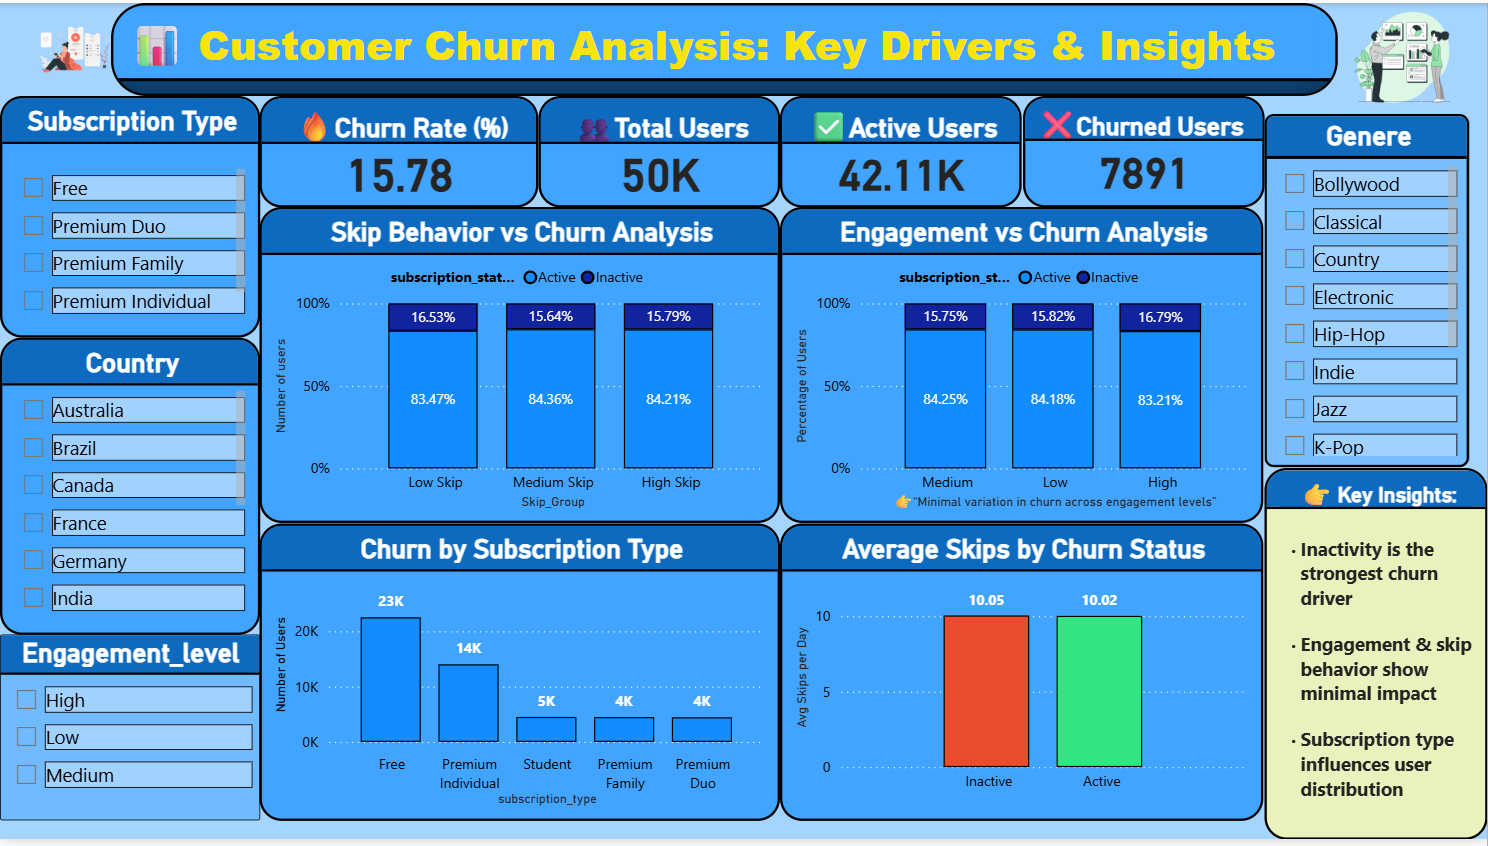

This screenshot's page, from the dashboard's own definition file:
{"tool":"powerbi","page":{"name":"Page 1","canvas":[1280,720],"ordinal":0},"visuals":[{"type":"card","title":"👥Total Users","fields":{"Values":["CountNonNull(music_churn.user_id)"]},"box":[464,80,208,96],"z":0},{"type":"card","title":"✅Active Users","fields":{"Values":["CountNonNull(music_churn.user_id)"]},"box":[672,80,208,96],"z":1000},{"type":"card","title":"❌Churned Users","fields":{"Values":["CountNonNull(music_churn.user_id)"]},"box":[880,80,208,96],"z":2000},{"type":"textbox","title":"📊 Customer Churn Analysis: Key Drivers & Insights","box":[96,0,1056,80],"z":3000},{"type":"card","title":"🔥Churn Rate (%) ","fields":{"Values":["music_churn.Churn Rate"]},"box":[224,80,240,96],"z":4000},{"type":"slicer","title":"Subscription Type","fields":{"Values":["music_churn.subscription_type"]},"box":[0,80,224,208],"z":5000},{"type":"slicer","title":"Country","fields":{"Values":["music_churn.country"]},"box":[0,288,224,256],"z":6000},{"type":"slicer","title":"Engagement_level","fields":{"Values":["music_churn.Engagement_Level"]},"box":[0,544,224,160],"z":7000},{"type":"hundredPercentStackedColumnChart","title":"Engagement vs Churn Analysis","fields":{"Category":["music_churn.Engagement_Level"],"Series":["music_churn.subscription_status"],"Y":["CountNonNull(music_churn.user_id)"]},"box":[672,176,416,272],"z":8000},{"type":"hundredPercentStackedColumnChart","title":"Skip Behavior vs Churn Analysis","fields":{"Series":["music_churn.subscription_status"],"Y":["CountNonNull(music_churn.user_id)"],"Category":["music_churn.Skip_Group"]},"box":[224,176,448,272],"z":9000},{"type":"clusteredColumnChart","title":"Churn by Subscription Type","fields":{"Category":["music_churn.subscription_type"],"Y":["CountNonNull(music_churn.user_id)"]},"box":[224,448,448,256],"z":10000},{"type":"clusteredColumnChart","title":"Average Skips by Churn Status","fields":{"Category":["music_churn.subscription_status"],"Y":["Avg(music_churn.avg_skips_per_day)"]},"box":[672,448,416,256],"z":11000},{"type":"slicer","title":"Genere","fields":{"Values":["music_churn.favorite_genre"]},"box":[1088,96,176,304],"z":12000},{"type":"textbox","title":"👉 Key Insights:","box":[1088,400,192,320],"z":13000},{"type":"image","box":[1152,0,112,96],"z":14000},{"type":"image","box":[0,0,128,80],"z":15000}]}

Visuals, with their boxes in screenshot pixels (x1, y1, x2, y2), scaled from the page's 1280x720 canvas onto the 1488x846 screenshot:
"👥Total Users" card: x1=539, y1=94, x2=781, y2=207
"✅Active Users" card: x1=781, y1=94, x2=1023, y2=207
"❌Churned Users" card: x1=1023, y1=94, x2=1265, y2=207
"📊 Customer Churn Analysis: Key Drivers & Insights" textbox: x1=112, y1=0, x2=1339, y2=94
"🔥Churn Rate (%) " card: x1=260, y1=94, x2=539, y2=207
"Subscription Type" slicer: x1=0, y1=94, x2=260, y2=338
"Country" slicer: x1=0, y1=338, x2=260, y2=639
"Engagement_level" slicer: x1=0, y1=639, x2=260, y2=827
"Engagement vs Churn Analysis" hundredPercentStackedColumnChart: x1=781, y1=207, x2=1265, y2=526
"Skip Behavior vs Churn Analysis" hundredPercentStackedColumnChart: x1=260, y1=207, x2=781, y2=526
"Churn by Subscription Type" clusteredColumnChart: x1=260, y1=526, x2=781, y2=827
"Average Skips by Churn Status" clusteredColumnChart: x1=781, y1=526, x2=1265, y2=827
"Genere" slicer: x1=1265, y1=113, x2=1469, y2=470
"👉 Key Insights:" textbox: x1=1265, y1=470, x2=1487, y2=845
image: x1=1339, y1=0, x2=1469, y2=113
image: x1=0, y1=0, x2=149, y2=94
